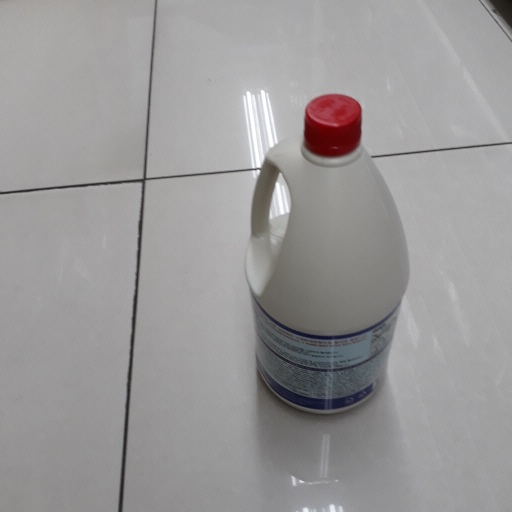Plastic_1: (245, 93, 410, 415)
